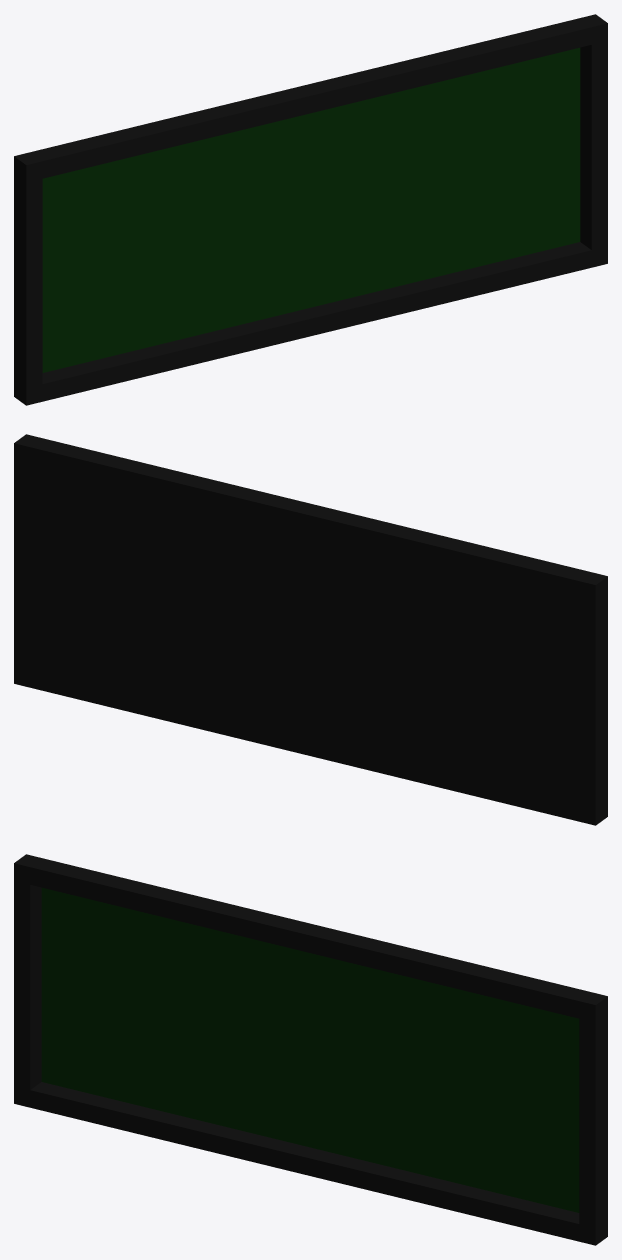
The model's file is Board_Chalk.fbx.
3 views of the same model, one above another, from view 1: azimuth 30°, elevation 25°; view 2: azimuth 150°, elevation 25°; view 3: azimuth 330°, elevation 25° (orthographic).
Parts seen in each view (by area): view 1: Board_Chalk; view 2: Board_Chalk; view 3: Board_Chalk.
Part boxes in pixels (x1,y1,x2,y2): Board_Chalk: (14,14,607,405); Board_Chalk: (14,434,607,825); Board_Chalk: (14,854,607,1245).
Size of the model in its own units: 16.77 by 6.62 by 0.6114.
